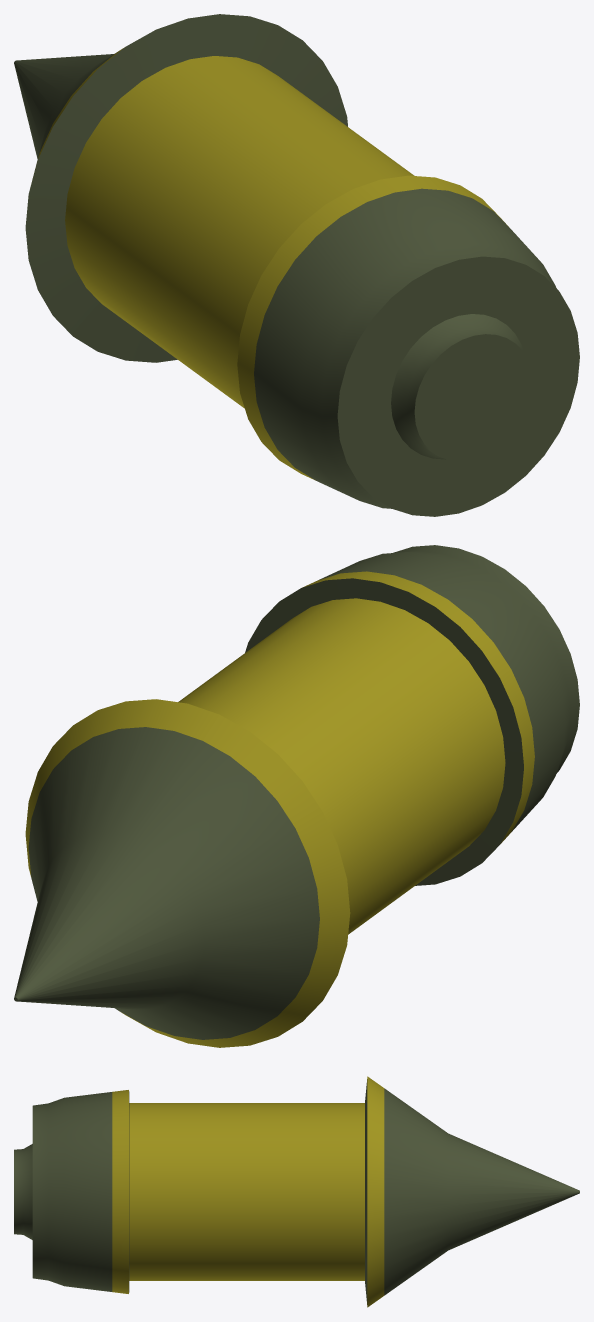
File: Shell_003.fbx
3 renders of one model, top to bottom at view 1: azimuth 30°, elevation 25°; view 2: azimuth 150°, elevation 25°; view 3: azimuth 270°, elevation 25°, orthographic. The views are drawn at different scales.
Parts seen in each view (by area): view 1: Cylinder.002; view 2: Cylinder.002; view 3: Cylinder.002.
Part boxes in pixels (<box>): Cylinder.002: <box>14,14,579,516</box>; Cylinder.002: <box>14,545,579,1047</box>; Cylinder.002: <box>14,1076,579,1307</box>.
Size of the model in its own units: 260 by 260 by 635.
